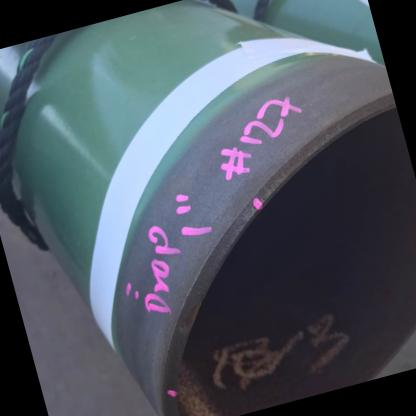Bevel: (165, 284, 226, 338)
